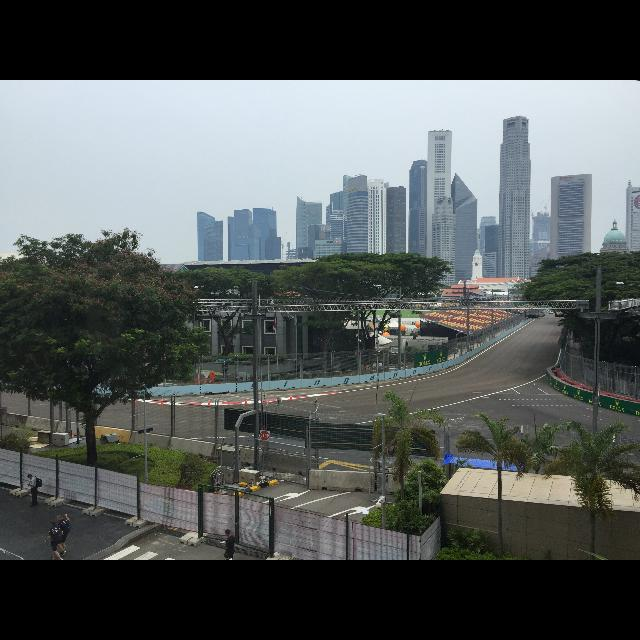head: (56, 514, 62, 522), (224, 553, 230, 559), (226, 530, 230, 536), (52, 520, 56, 526), (28, 474, 32, 480)
person: (56, 514, 72, 556), (26, 473, 44, 507)
